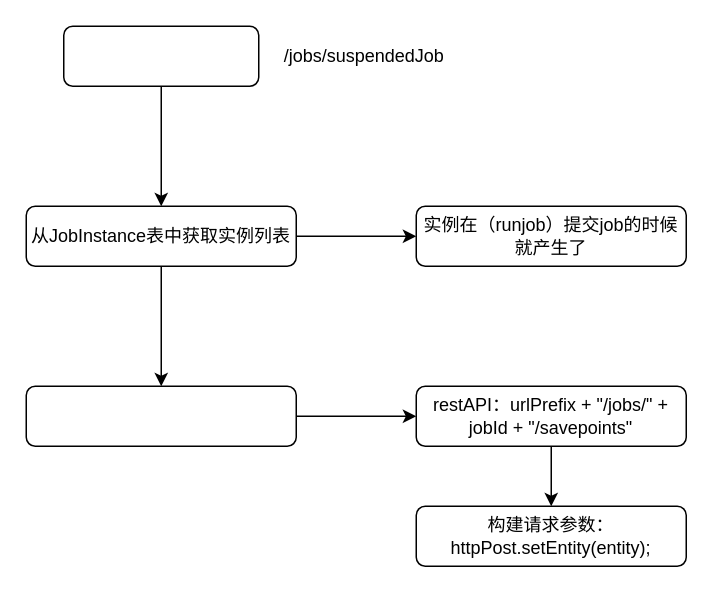
The diagram is 713 pixels wide and 593 high, and some of its shapes have lost their labels. The shapes that lost their labels are listed below. From the top down, each one's centre as x and y in pixels, then its label:
At point 160,55: "暂停任务（standaone）".
At point 160,415: "通过jobId停止job触发savepoint".
